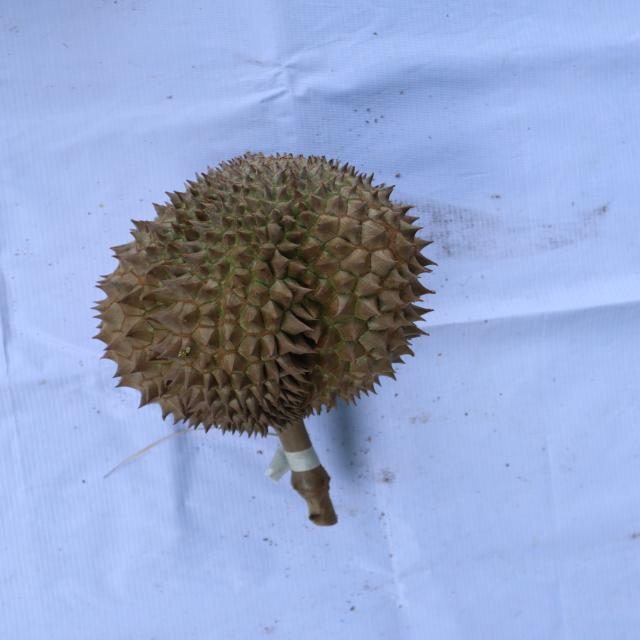mature: (91, 151, 440, 442)
